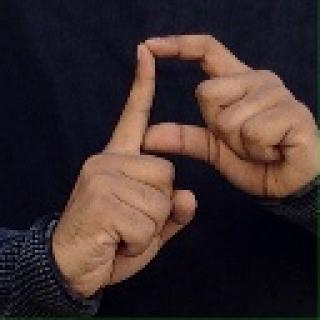D: (48, 33, 316, 306)
